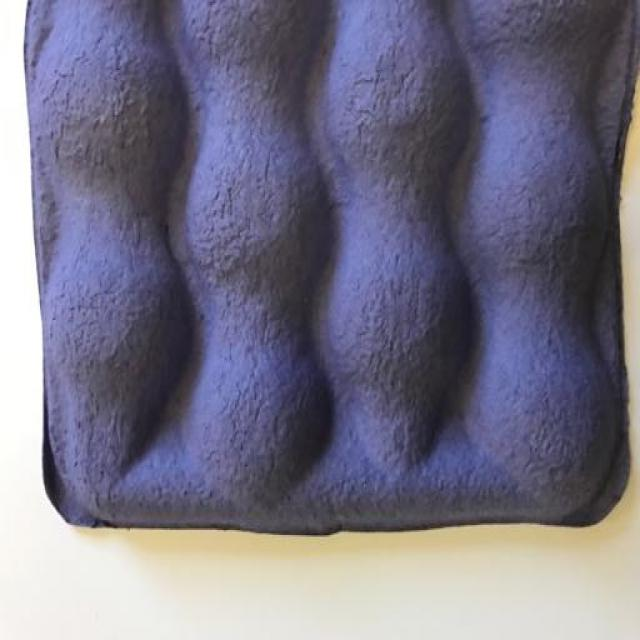cardboard: (17, 4, 640, 576)
